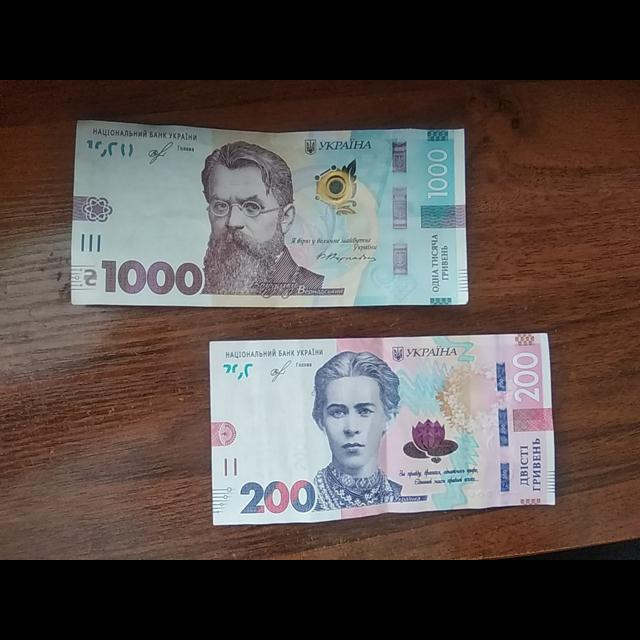1000uah: (74, 119, 470, 304)
200uah: (212, 344, 554, 506)
